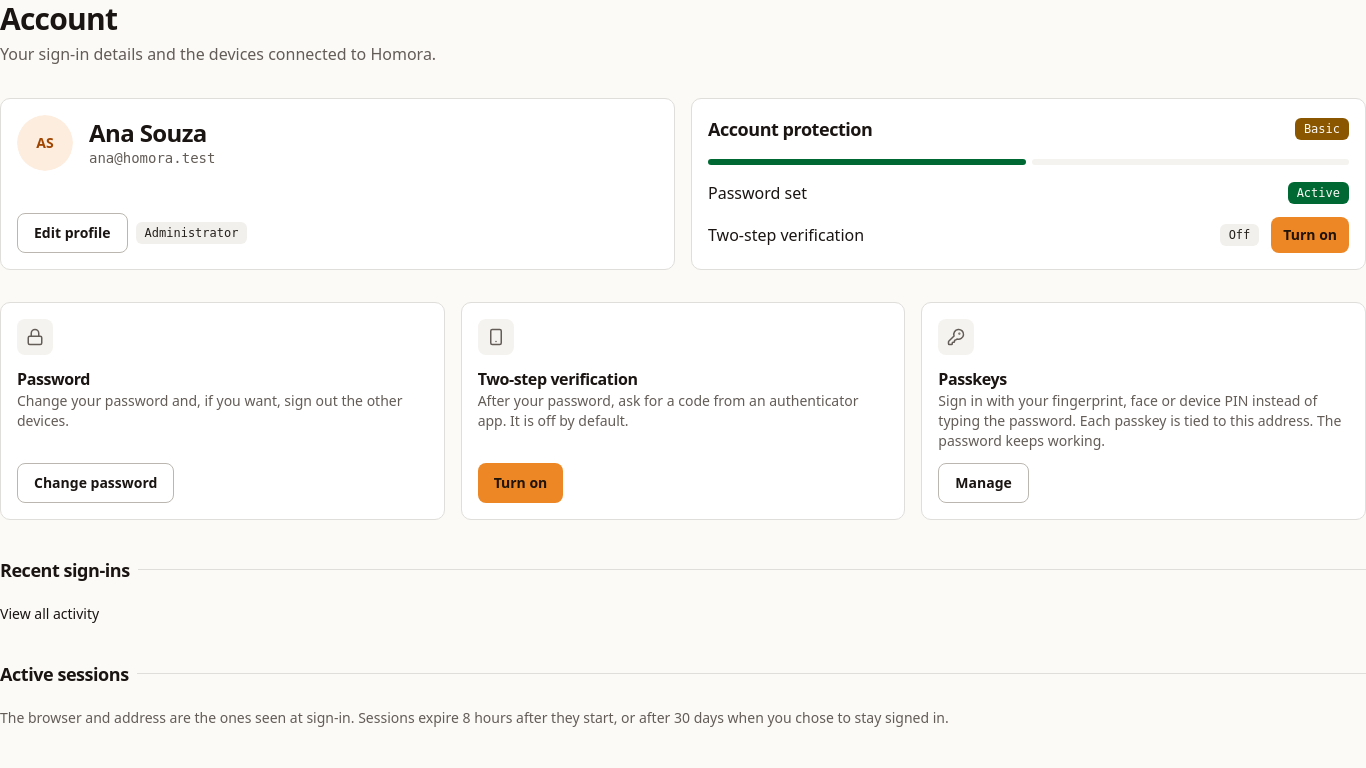
opens each form in a dialog with its own title instead of a long page
Expected: the heading "Account protection" is shown, [708,114,872,142]
Expected: the field labelled "Current password" is not shown
Click the button "Change password" at [96, 482], box [17,462,174,502]
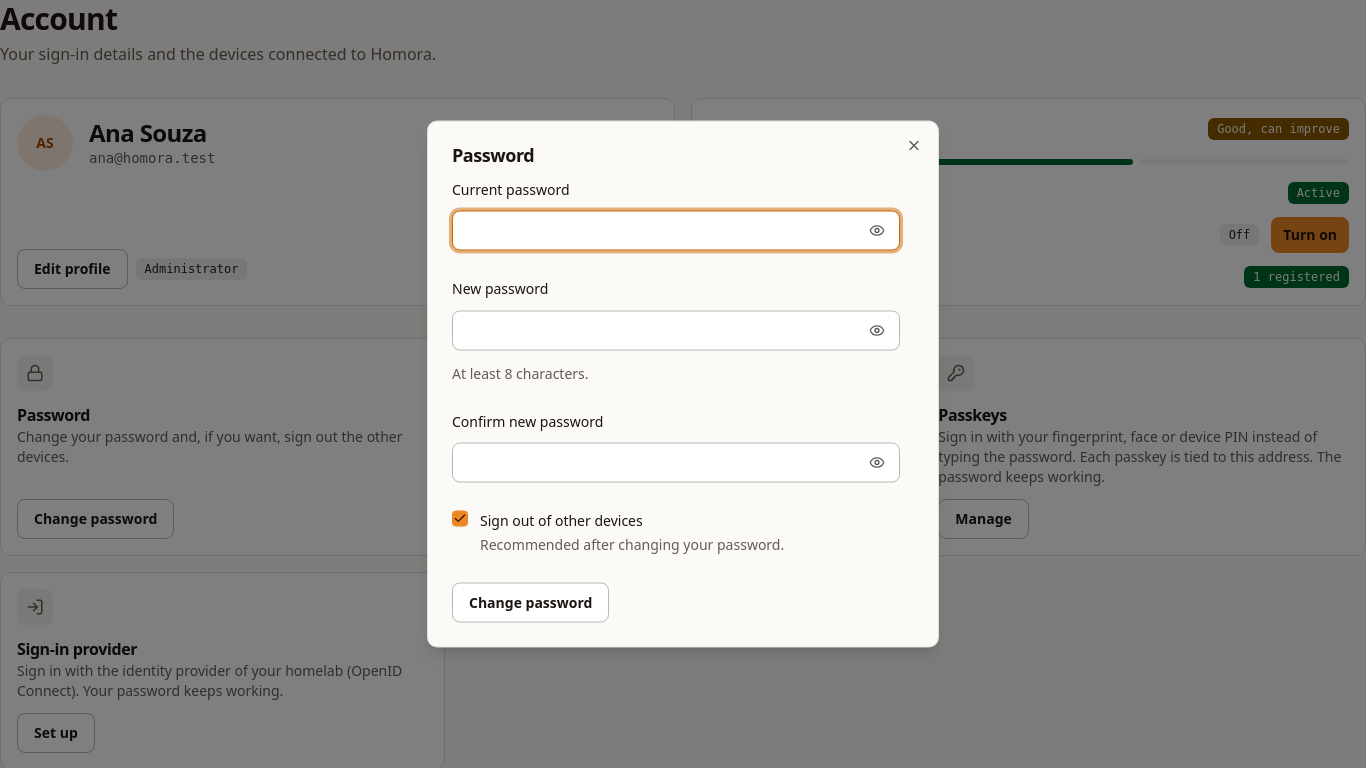
Expected: the password field labelled "Current password" is shown, [453,211,859,251]
Expected: the number of headings "Password" is 1, [452,142,534,166]
